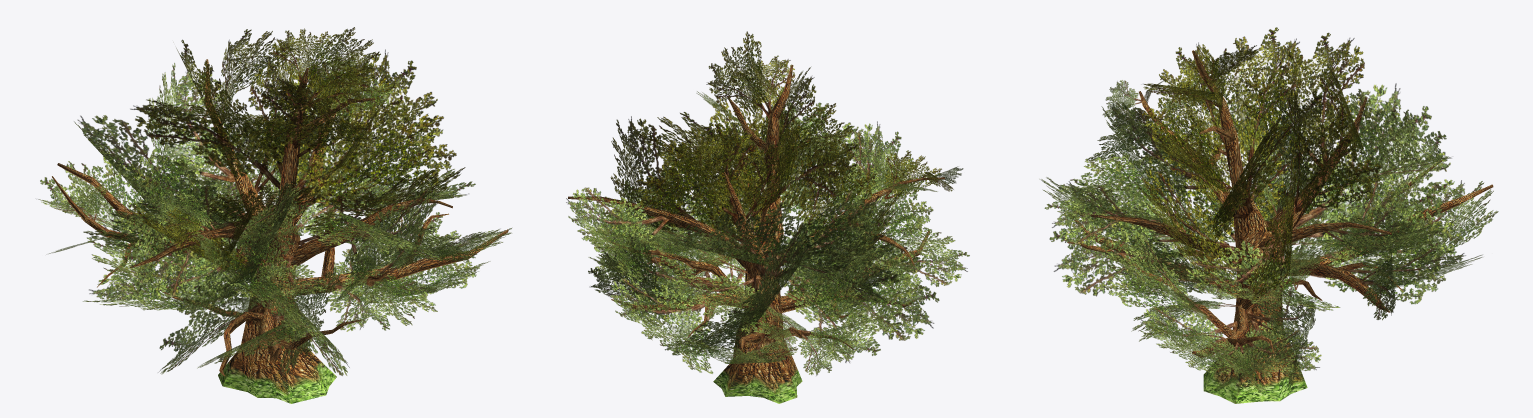
The model's file is tree1_1.glb.
3 views of the same model, side by side, from view 1: azimuth 30°, elevation 25°; view 2: azimuth 150°, elevation 25°; view 3: azimuth 270°, elevation 25° (orthographic). The views are drawn at different scales.
Visible parts, largest first — view 1: tree1_1; view 2: tree1_1; view 3: tree1_1.
Boxes of the visible parts, x1,y1,x2,y2 form: tree1_1: (38, 27, 511, 403); tree1_1: (566, 31, 969, 403); tree1_1: (1040, 27, 1498, 403).
Size of the model in its own units: 17.22 by 15.3 by 18.83.
Materials: 4 (4 with a texture image).
